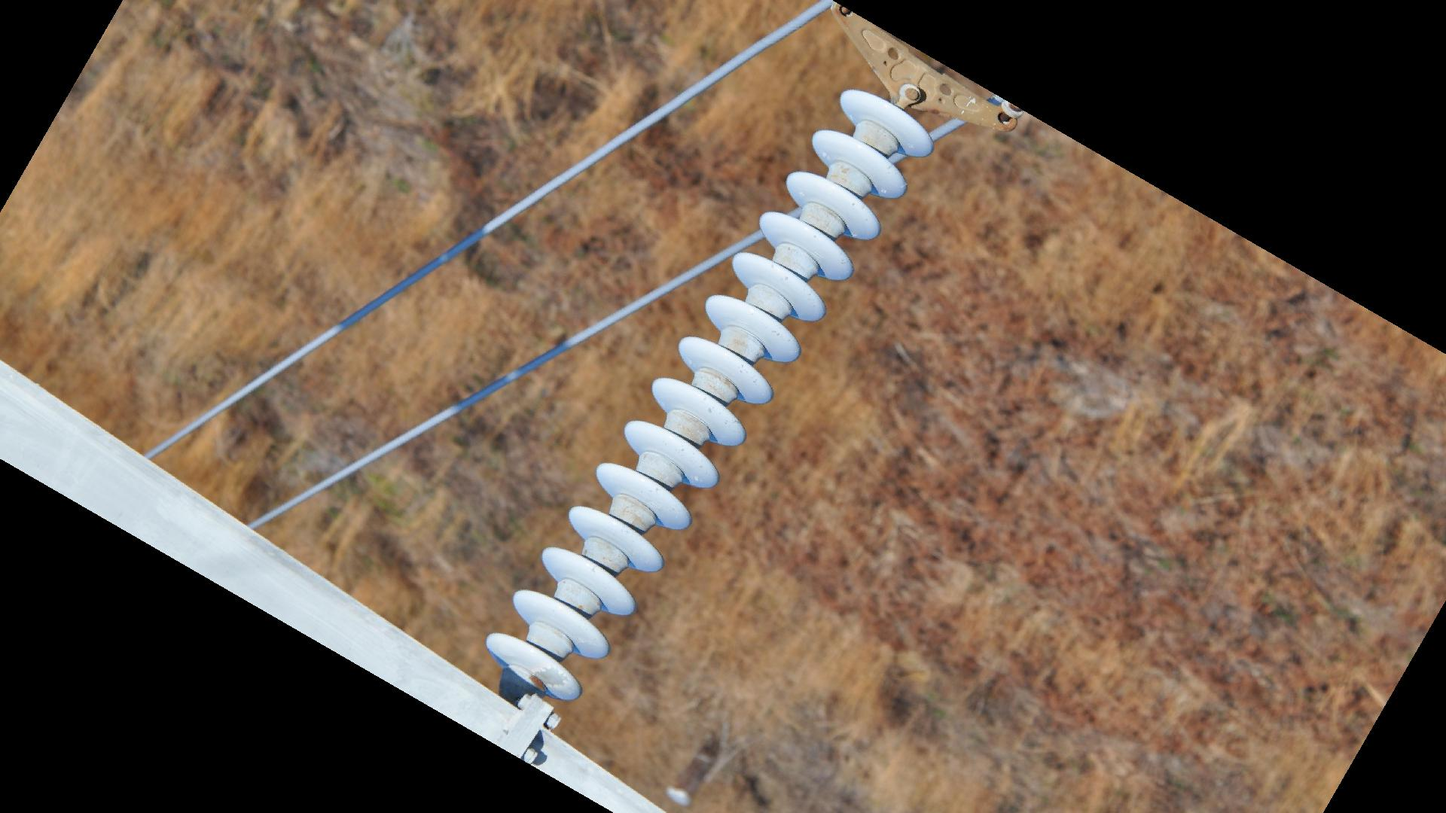insulator: (479, 83, 938, 709)
insulator_flashover: (532, 663, 572, 690)
